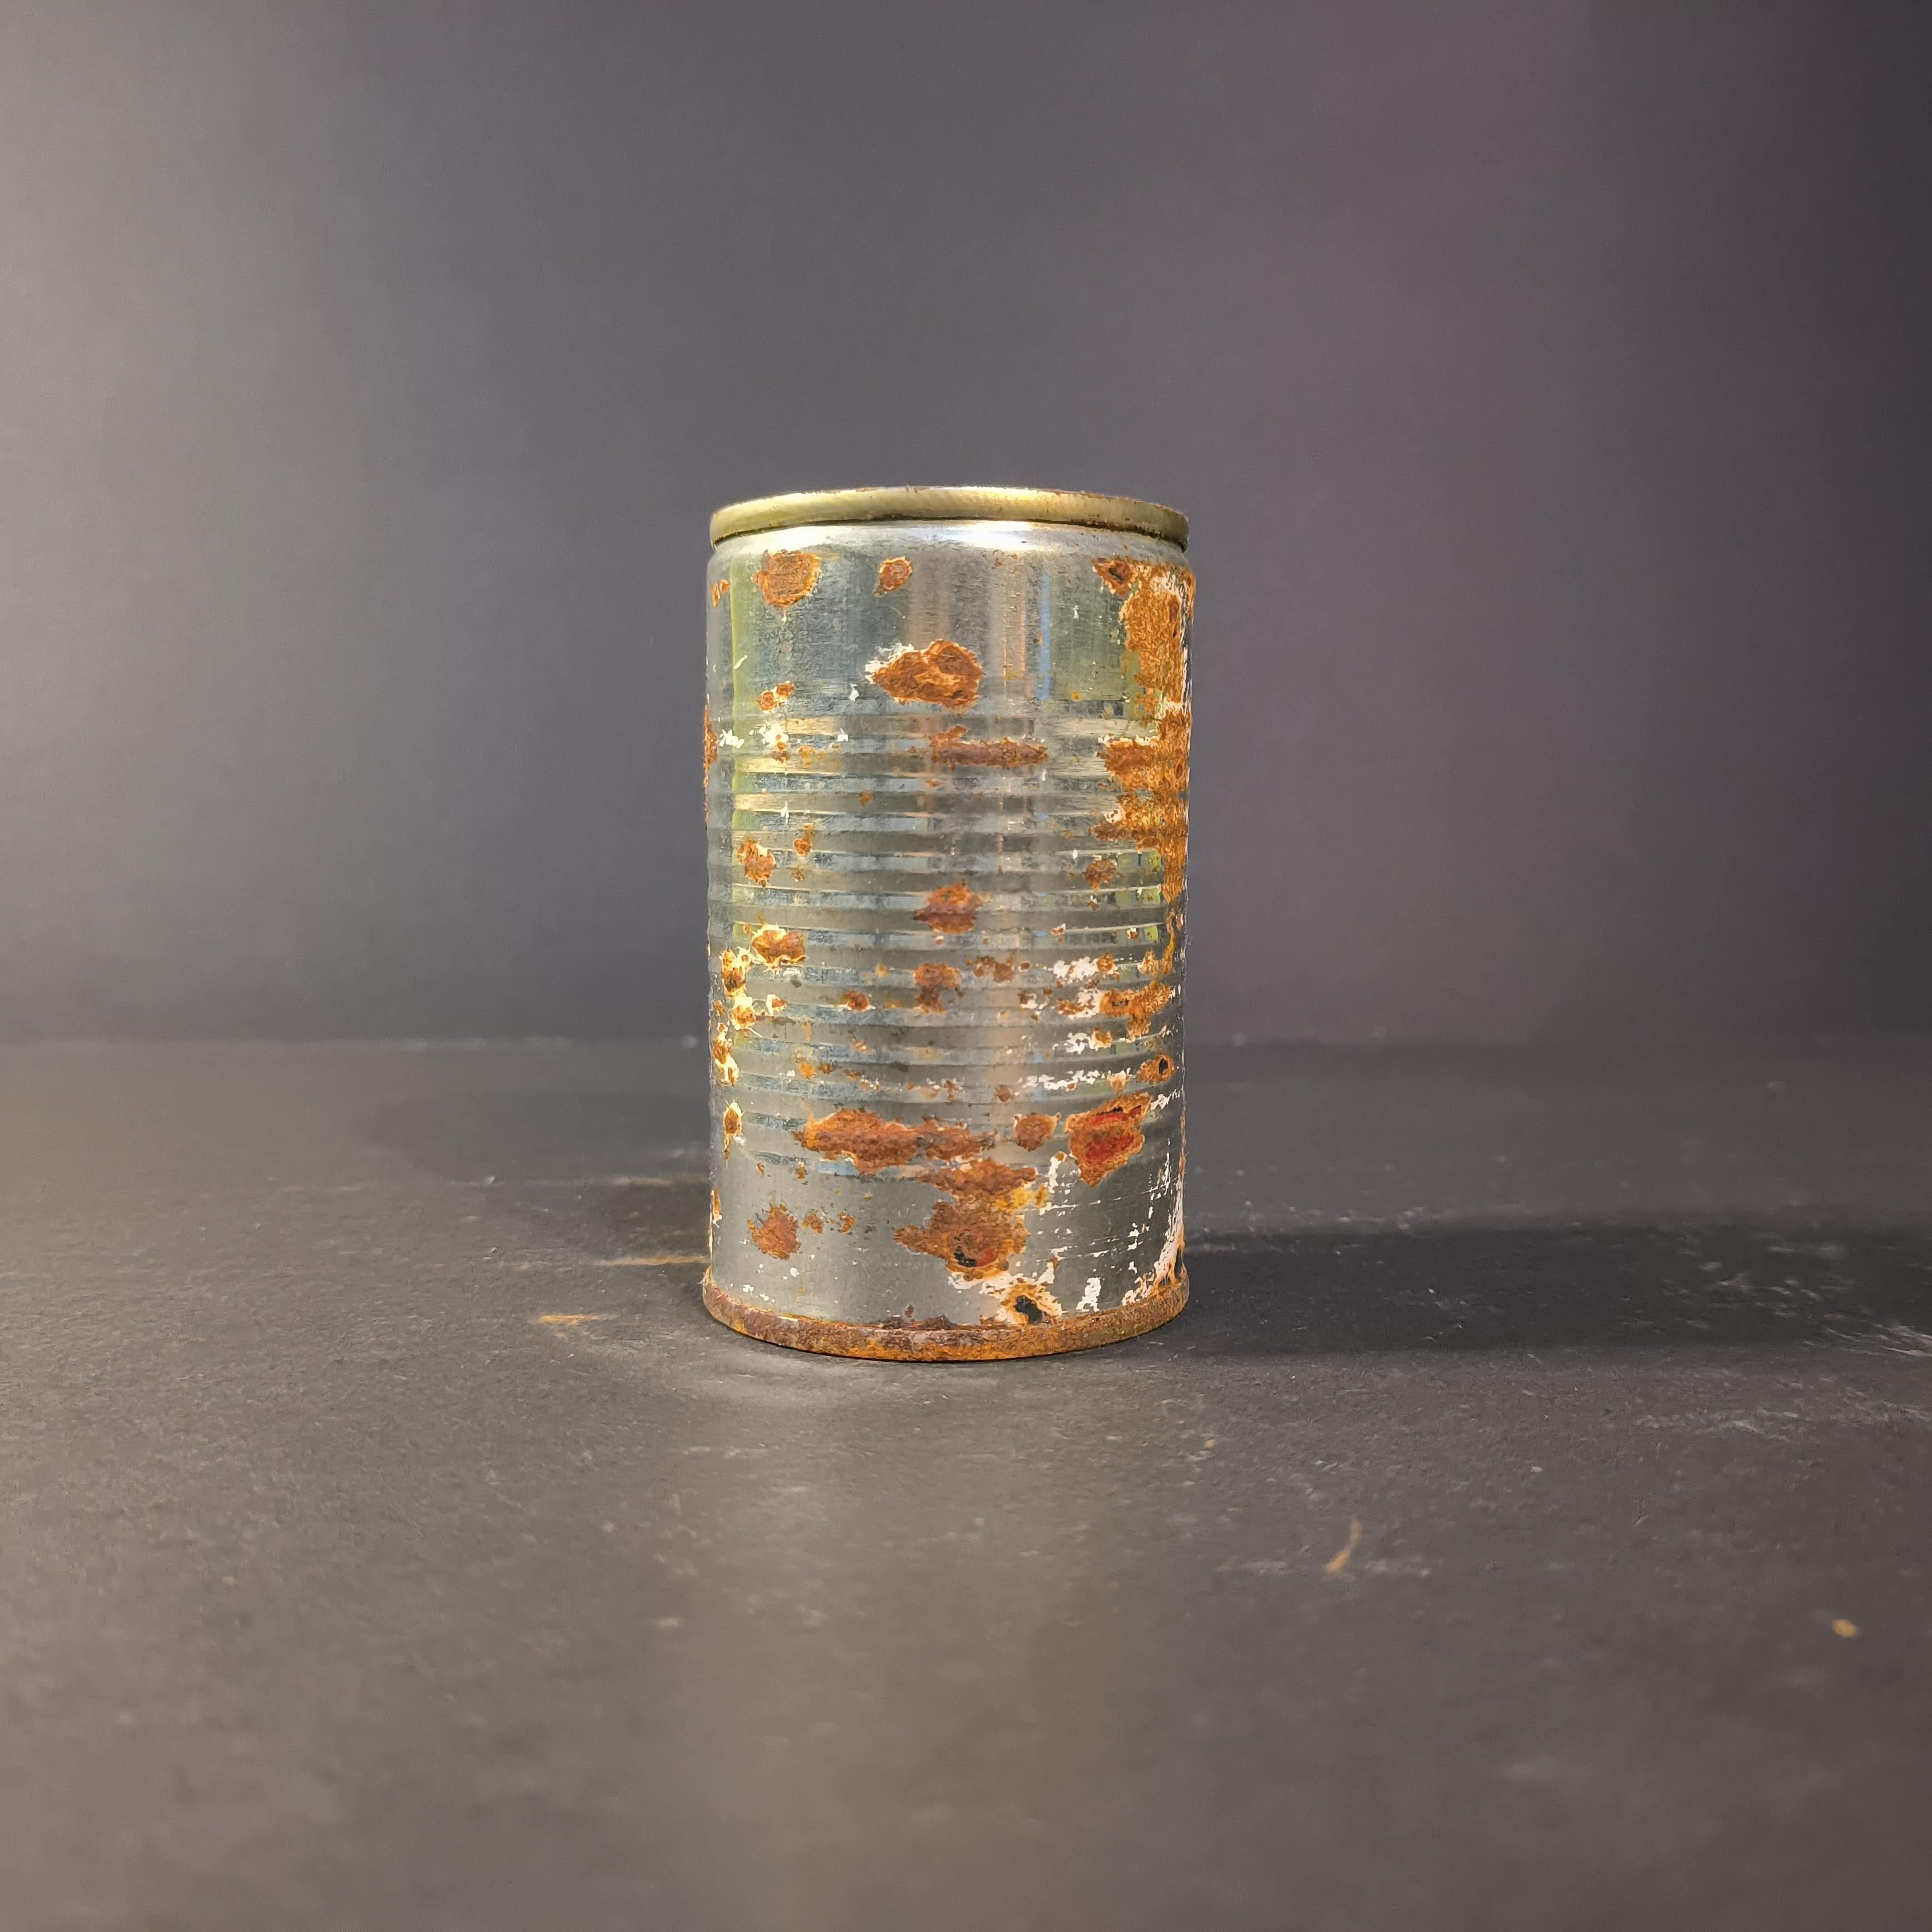Rusted: (676, 465, 1233, 1375)
